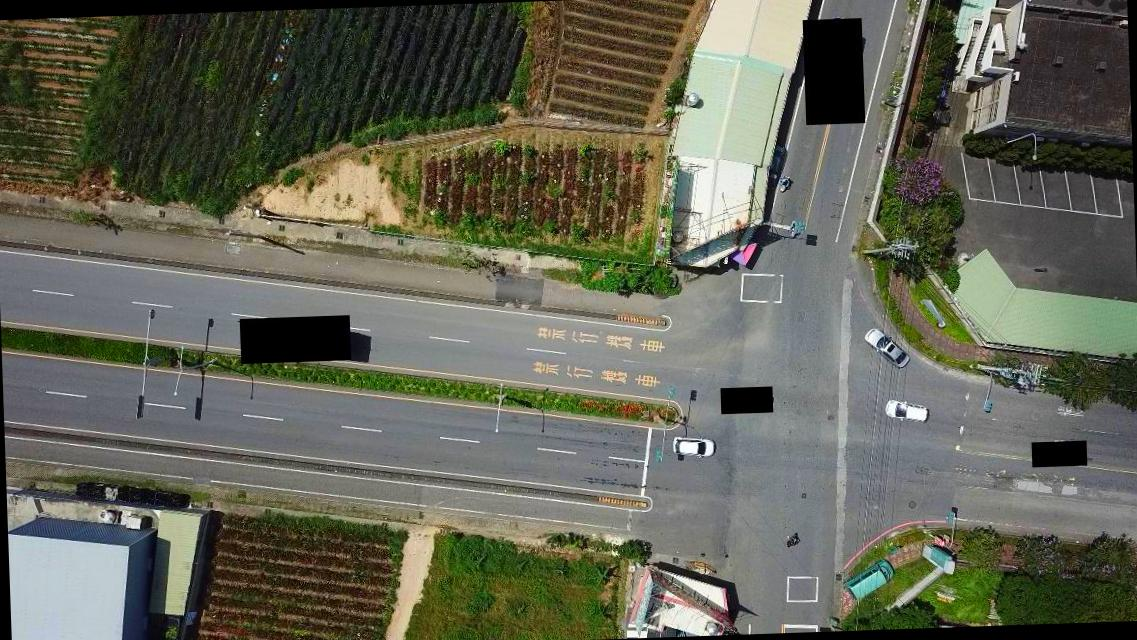vehicle: (844, 558, 897, 600), (864, 326, 908, 369), (886, 396, 931, 425), (671, 431, 715, 460)
